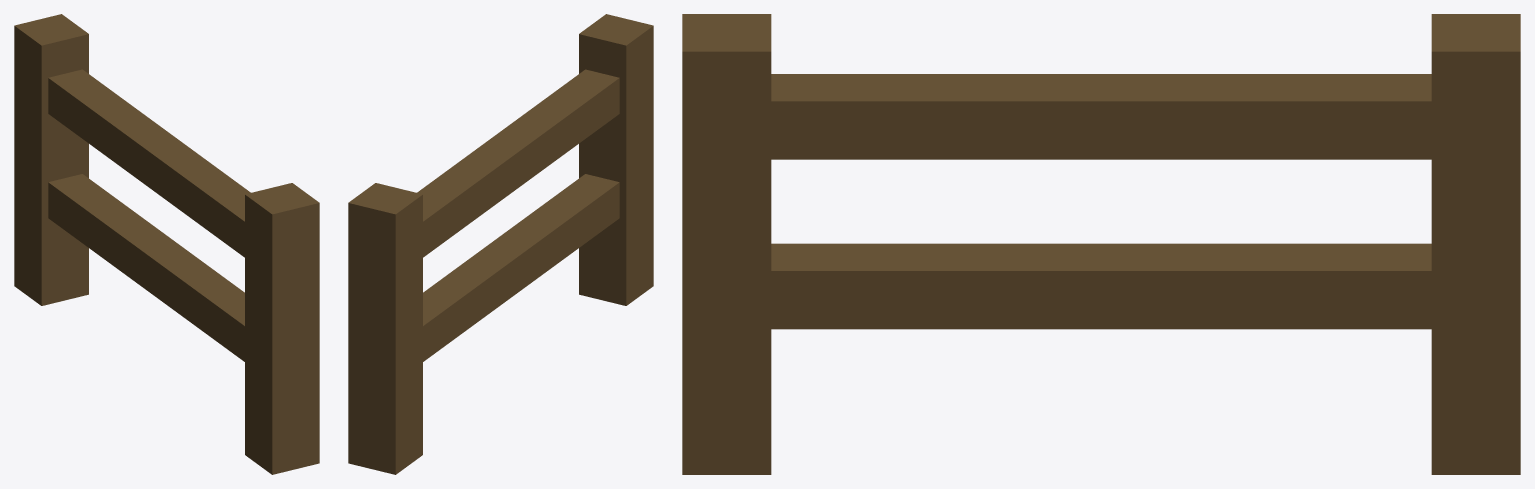
Rendered from Fence1.fbx.
3 views of the same model, side by side, from view 1: azimuth 30°, elevation 25°; view 2: azimuth 150°, elevation 25°; view 3: azimuth 270°, elevation 25° (orthographic). The views are drawn at different scales.
Parts seen in each view (by area): view 1: Fence; view 2: Fence; view 3: Fence.
Part boxes in pixels (bbox=[...]): Fence: bbox=[14, 14, 319, 474]; Fence: bbox=[348, 14, 653, 474]; Fence: bbox=[682, 14, 1520, 474].
Bounding box in the file's own units: 11.89 × 62.33 × 112.
